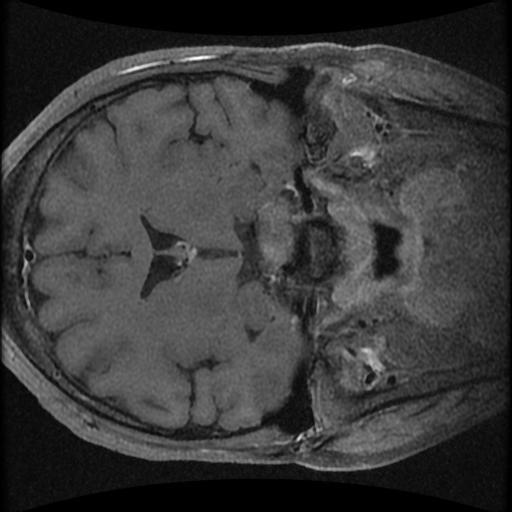pituitary tumour: (256, 200, 296, 273)
